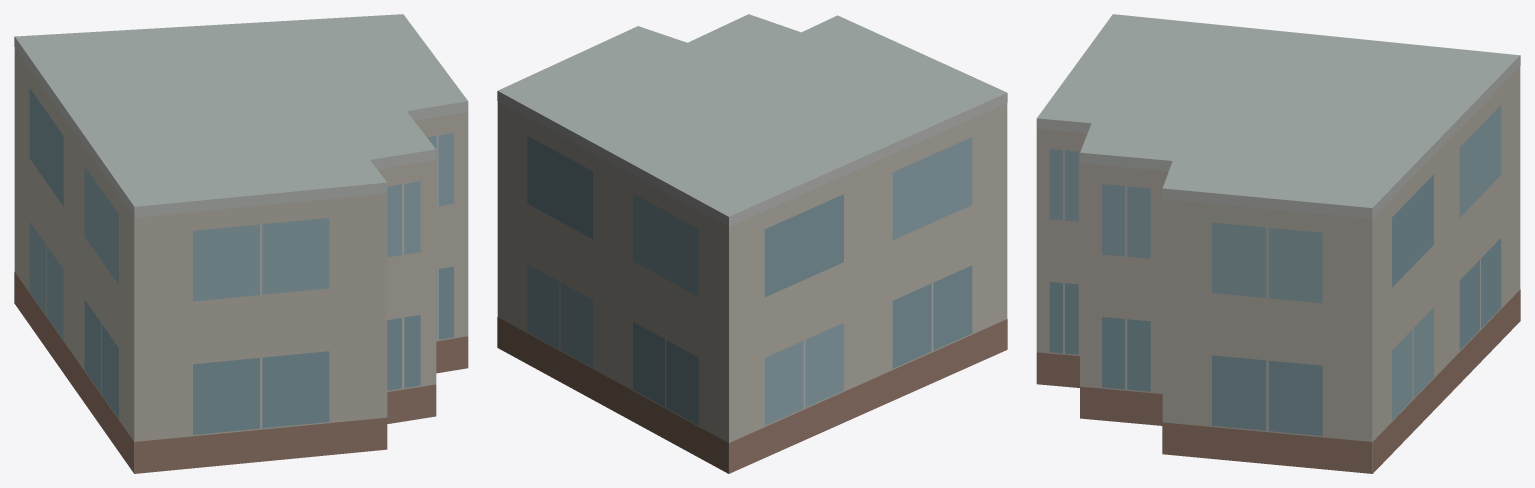
Rendered from survey-upis-32474057.glb.
3 views of the same model, side by side, from view 1: azimuth 30°, elevation 25°; view 2: azimuth 150°, elevation 25°; view 3: azimuth 270°, elevation 25° (orthographic). The views are drawn at different scales.
Parts seen in each view (by area): view 1: survey-upis-32474057.tmp; view 2: survey-upis-32474057.tmp; view 3: survey-upis-32474057.tmp.
Part boxes in pixels (x1,y1,x2,y2): survey-upis-32474057.tmp: [14, 14, 468, 473]; survey-upis-32474057.tmp: [497, 14, 1007, 473]; survey-upis-32474057.tmp: [1036, 14, 1520, 473].
Size of the model in its own units: 9.56 by 6.1 by 10.07.
